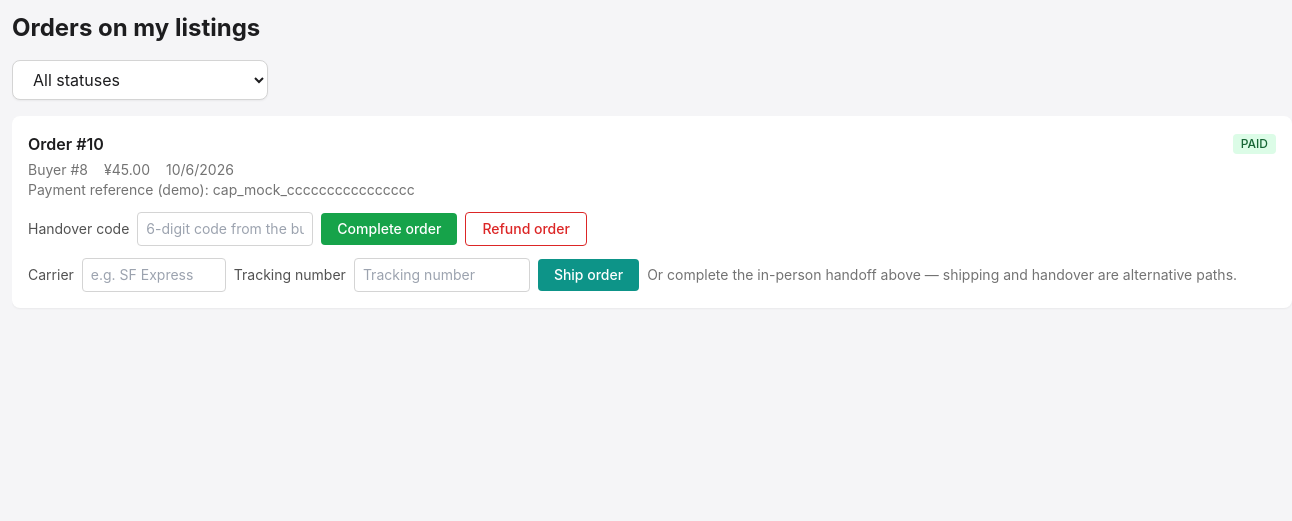
Scenario: SellerOrdersPage › confirming a refund with a blank reason posts nothing and shows the reason copy (backlog #239)
Expected: the text "Order #10" is shown, [28, 132, 104, 156]
Click the button "Refund order" at (526, 229), box [465, 212, 587, 246]
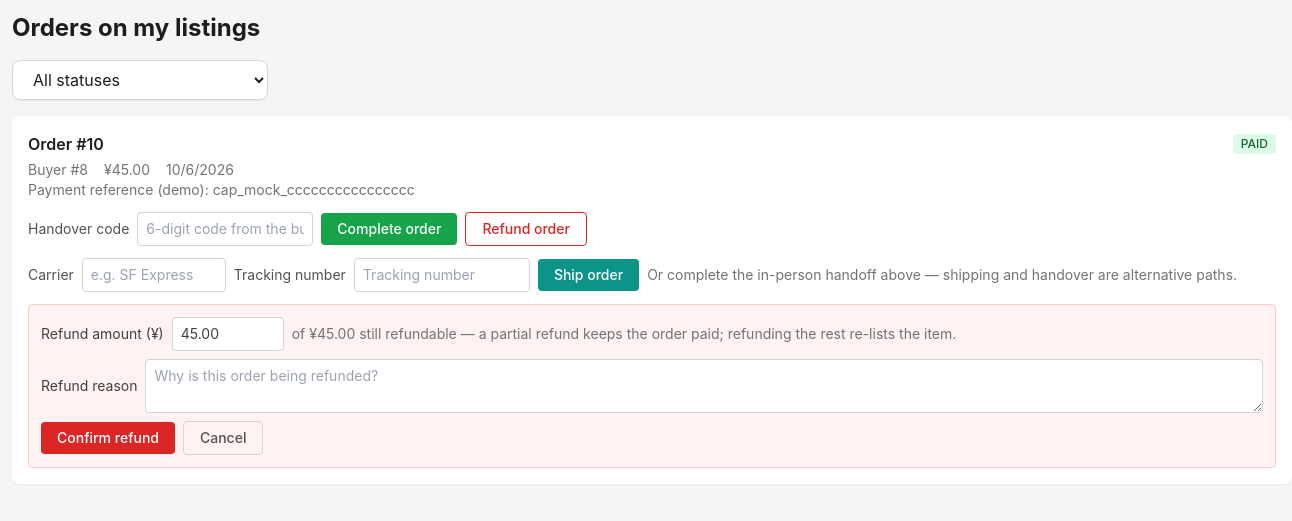
Click the button "Confirm refund" at (108, 438), box [41, 422, 175, 454]
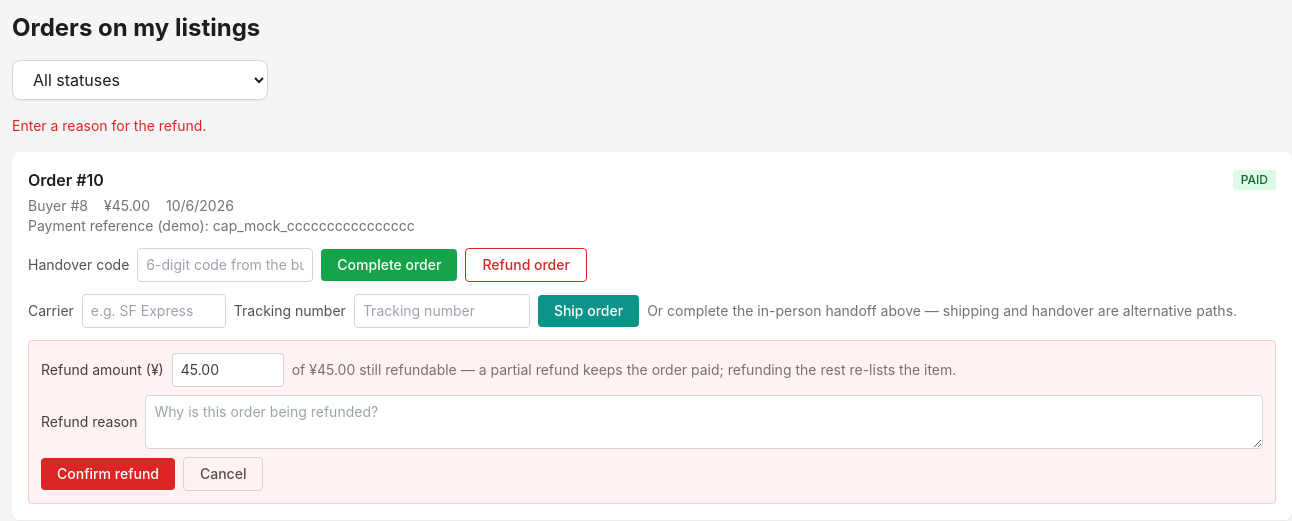
Now the text "Enter a reason for the refund." is shown, box [12, 117, 206, 134]
